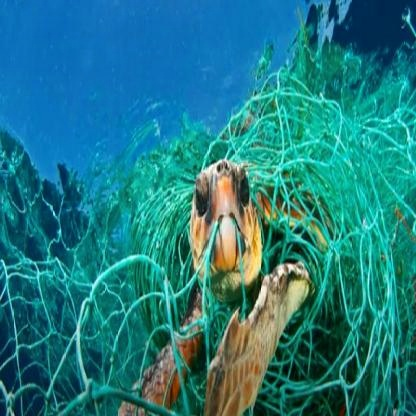net: (243, 77, 410, 416), (50, 193, 191, 404)
